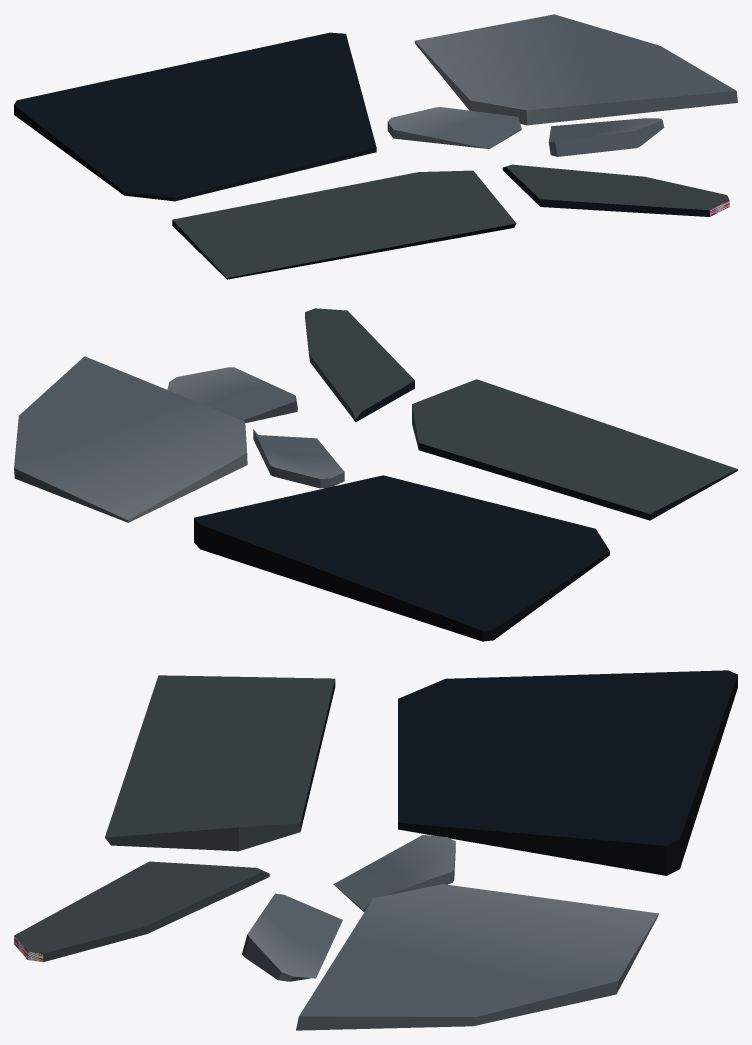
Rendered from Broken Tile Set  2 (2.5m).fbx.
The picture shows the model from 3 angles, top to bottom: view 1: azimuth 30°, elevation 25°; view 2: azimuth 150°, elevation 25°; view 3: azimuth 270°, elevation 25°; orthographic projection. The views are drawn at different scales.
Visible parts, largest first — view 1: Broken Tile Set 2 (2.5m); view 2: Broken Tile Set 2 (2.5m); view 3: Broken Tile Set 2 (2.5m).
Part boxes in pixels (x1=…): Broken Tile Set 2 (2.5m): x1=14, y1=14, x2=737, y2=279; Broken Tile Set 2 (2.5m): x1=14, y1=308, x2=737, y2=641; Broken Tile Set 2 (2.5m): x1=14, y1=670, x2=737, y2=1030.
Size of the model in its own units: 246 by 10 by 213.
